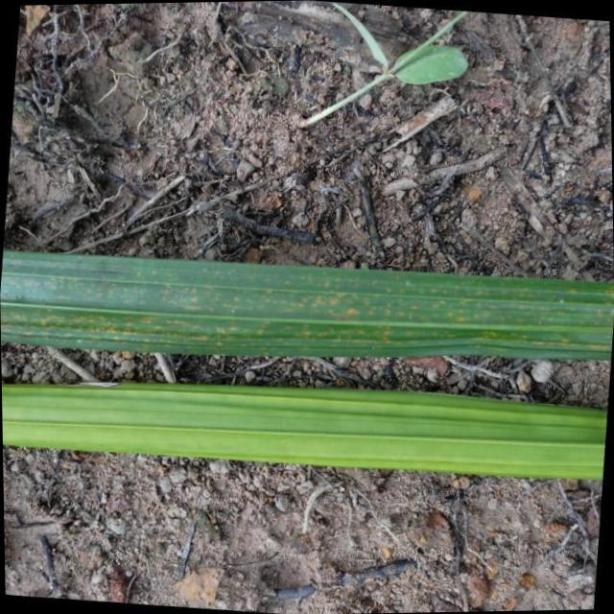nitrogen: (3, 372, 614, 481), (0, 245, 614, 353)
